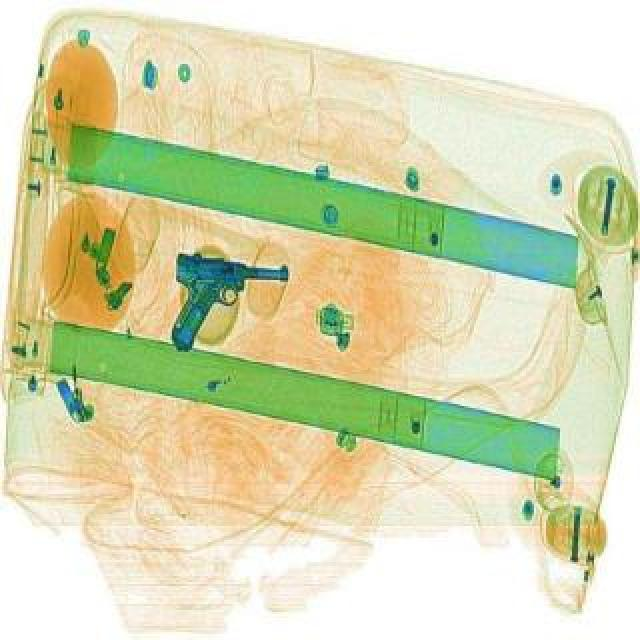gun: (162, 248, 290, 360)
